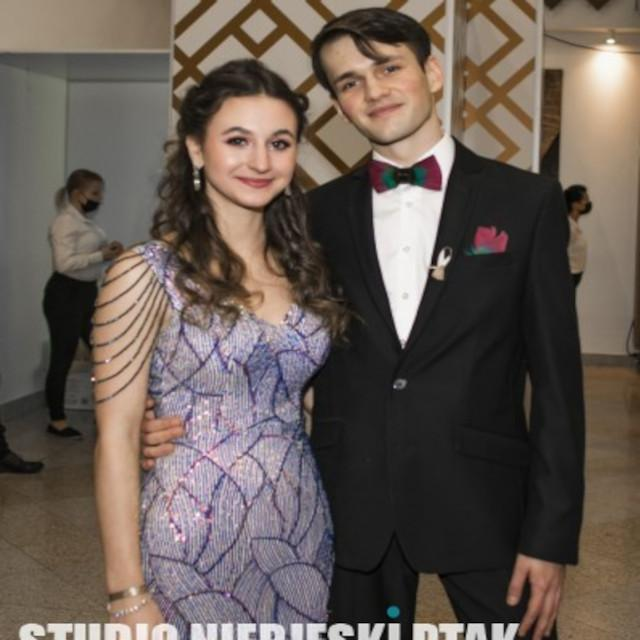kobieta: (93, 57, 324, 640), (45, 168, 113, 435), (562, 184, 592, 284)
mezczyzna: (300, 6, 576, 640)
